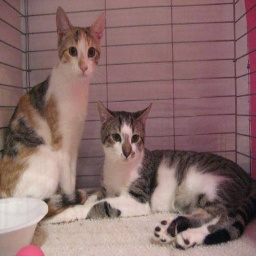cat: (0, 4, 256, 251)
